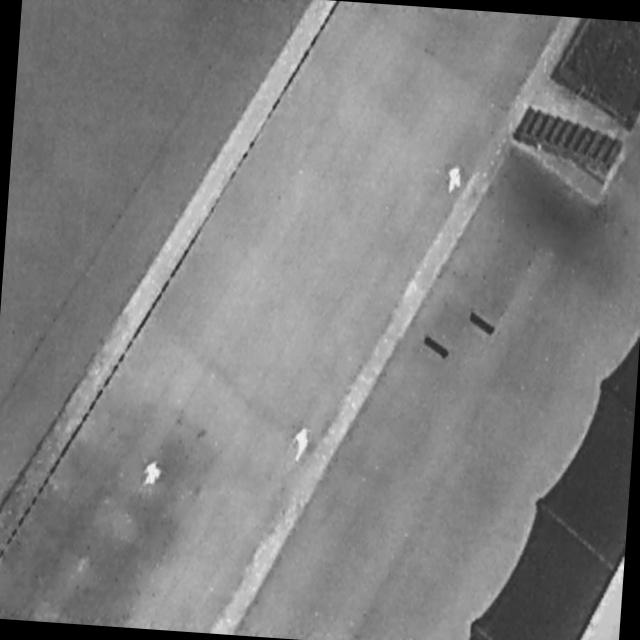person: (289, 425, 314, 466), (141, 459, 163, 488), (445, 164, 464, 196)
